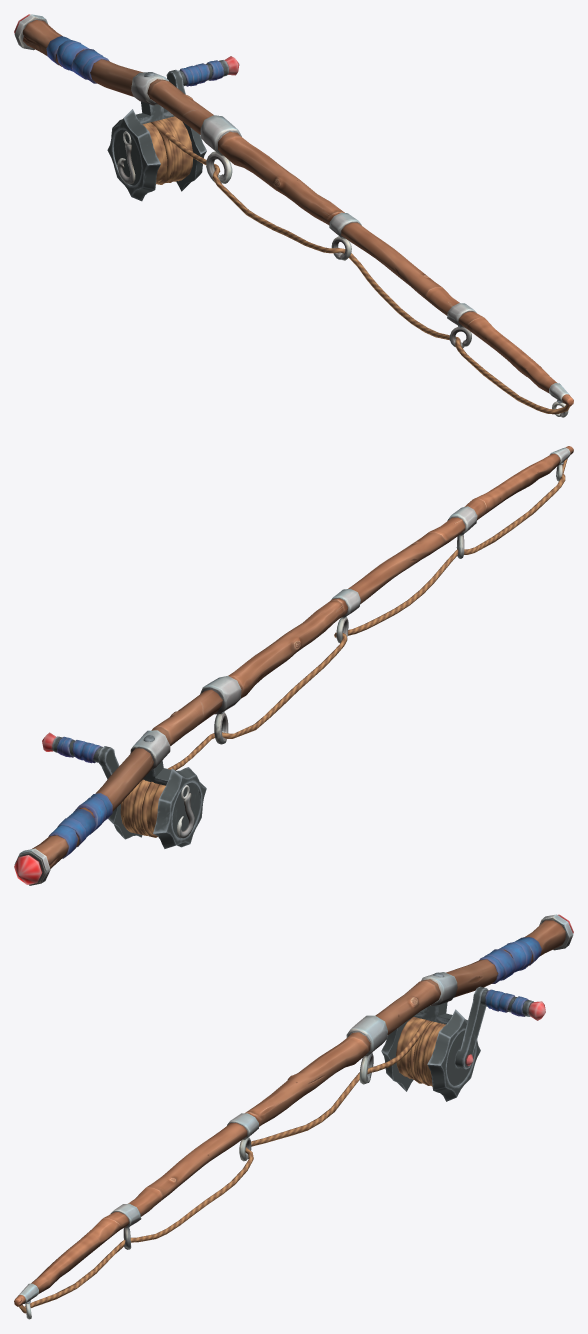
Rendered from olta.fbx.
3 views of the same model, one above another, from view 1: azimuth 30°, elevation 25°; view 2: azimuth 150°, elevation 25°; view 3: azimuth 330°, elevation 25° (orthographic).
Visible parts, largest first — view 1: body_low_Material_0; view 2: body_low_Material_0; view 3: body_low_Material_0.
Boxes of the visible parts, x1,y1,x2,y2 form: body_low_Material_0: (14, 14, 573, 417); body_low_Material_0: (14, 446, 573, 885); body_low_Material_0: (14, 914, 573, 1319).
Bounding box in the file's own units: 39.75 × 34.79 × 292.
